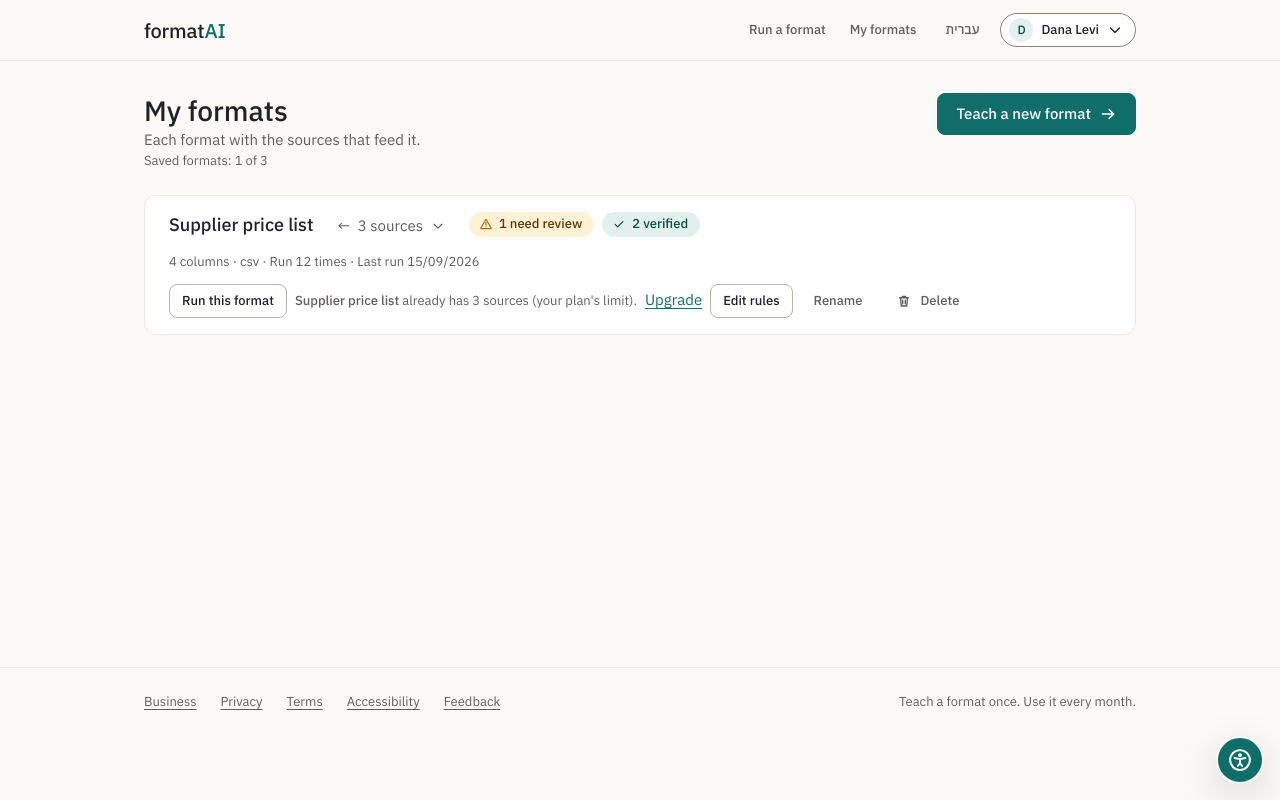
My formats › shows the sources underneath, each with its status and a way to its rules
expect the list with test id "format-list" is shown: met, box [144,195,1136,335]
Click the button "← 3 sources" at (391, 226), box [330,212,453,240]
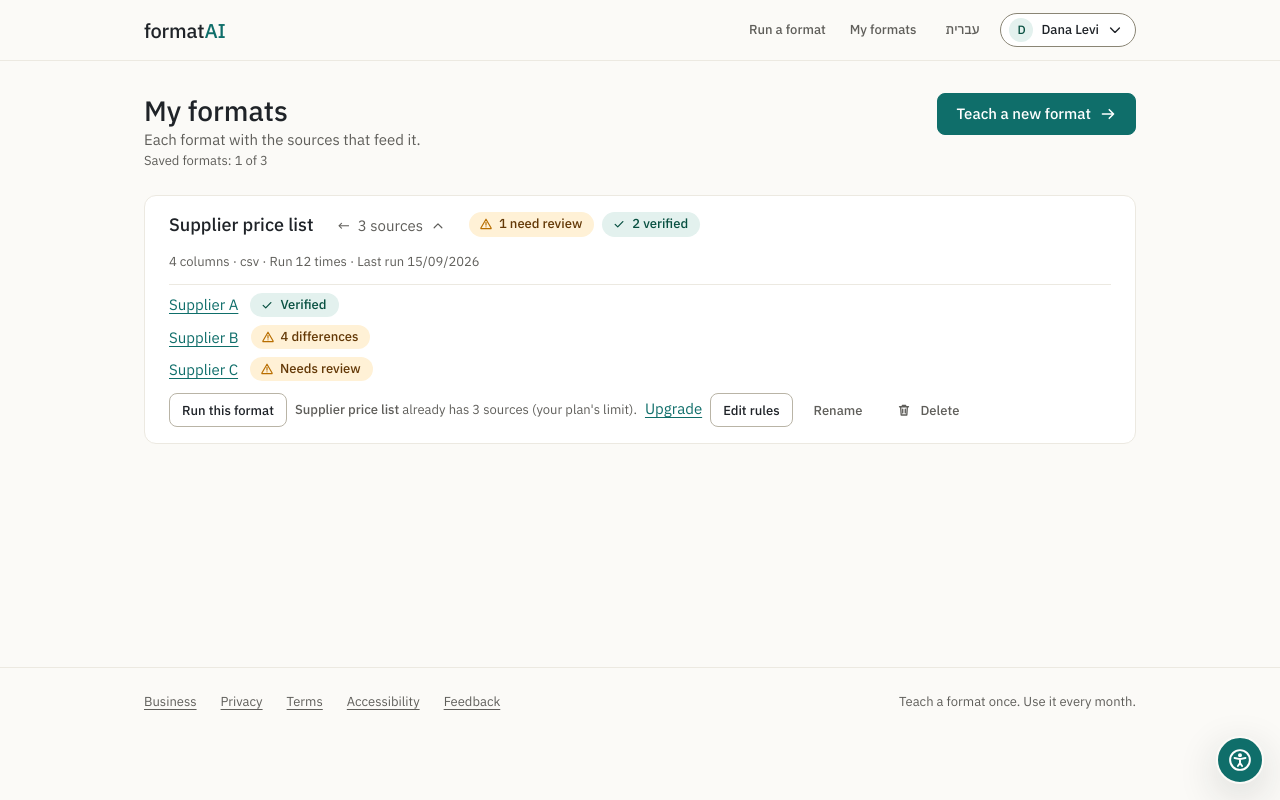
expect the link "Supplier B" is shown: met, box [169,326,238,349]
expect the text "4 differences" is shown: met, box [250,325,370,349]
expect the text "Needs review" is shown: met, box [250,357,373,382]
